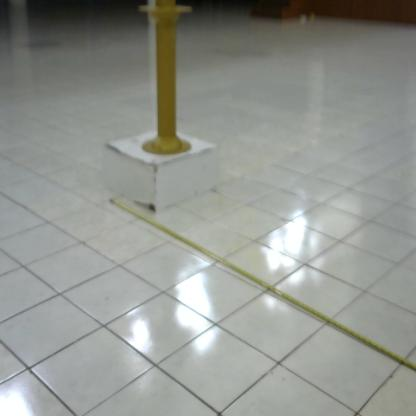pole: (136, 1, 201, 166)
